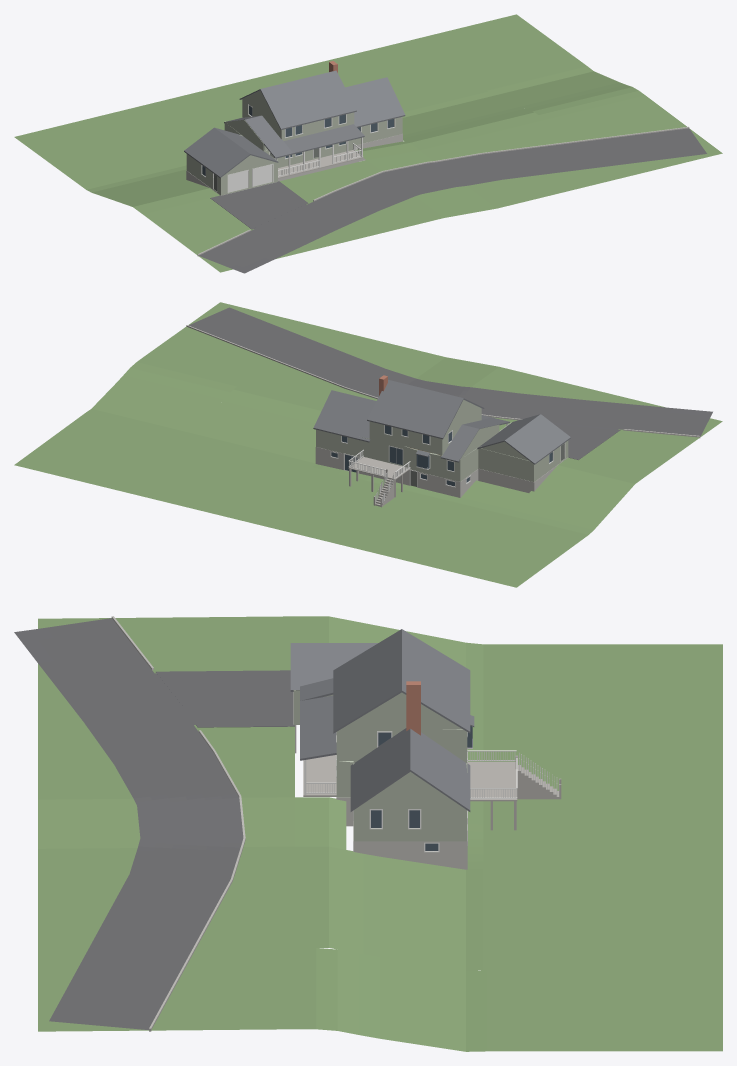
The model's file is house_prev.glb.
The picture shows the model from 3 angles, top to bottom: view 1: azimuth 30°, elevation 25°; view 2: azimuth 150°, elevation 25°; view 3: azimuth 270°, elevation 25°; orthographic projection. The views are drawn at different scales.
Visible parts, largest first — view 1: Site__Ground, Site__Asphalt, Roof__Roof, First__Siding, Roof__Siding, First__Trim, Second__Siding, Site__Foundation, First__Deck, First__GarageDoor, Basement__Foundation; view 2: Site__Ground, Site__Asphalt, Roof__Roof, First__Siding, Basement__Foundation, Second__Siding, First__Deck, Roof__Siding, First__Trim, First__Foundation, Site__Foundation, First__Glass; view 3: Site__Ground, Site__Asphalt, Roof__Roof, First__Siding, First__Deck, Roof__Siding, Basement__Foundation, Second__Siding, First__Trim, Site__Foundation, Roof__Brick.
Part boxes in pixels (left/top/right/bottom): Site__Ground: left=14, top=14, right=722, bottom=272; Site__Asphalt: left=199, top=128, right=706, bottom=273; Roof__Roof: left=184, top=70, right=405, bottom=177; First__Siding: left=186, top=117, right=402, bottom=195; Roof__Siding: left=225, top=90, right=277, bottom=173; First__Trim: left=201, top=118, right=395, bottom=192; Second__Siding: left=242, top=99, right=354, bottom=140; Site__Foundation: left=197, top=126, right=689, bottom=256; First__Deck: left=278, top=150, right=363, bottom=178; First__GarageDoor: left=228, top=164, right=272, bottom=192; Basement__Foundation: left=278, top=134, right=402, bottom=181; Site__Ground: left=14, top=302, right=722, bottom=587; Site__Asphalt: left=189, top=307, right=712, bottom=459; Roof__Roof: left=313, top=380, right=570, bottom=464; First__Siding: left=316, top=422, right=568, bottom=481; Basement__Foundation: left=315, top=447, right=478, bottom=497; Second__Siding: left=369, top=408, right=481, bottom=455; First__Deck: left=348, top=457, right=410, bottom=507; Roof__Siding: left=447, top=399, right=529, bottom=460; First__Trim: left=341, top=423, right=565, bottom=504; First__Foundation: left=478, top=457, right=568, bottom=492; Site__Foundation: left=186, top=325, right=700, bottom=438; First__Glass: left=342, top=436, right=552, bottom=471; Site__Ground: left=38, top=616, right=722, bottom=1051; Site__Asphalt: left=14, top=618, right=294, bottom=1030; Roof__Roof: left=290, top=629, right=470, bottom=811; First__Siding: left=293, top=690, right=467, bottom=841; First__Deck: left=303, top=755, right=561, bottom=830; Roof__Siding: left=342, top=692, right=462, bottom=807; Basement__Foundation: left=336, top=749, right=467, bottom=869; Second__Siding: left=336, top=728, right=467, bottom=762; First__Trim: left=304, top=739, right=559, bottom=829; Site__Foundation: left=111, top=616, right=245, bottom=1031; Roof__Brick: left=406, top=681, right=420, bottom=735.
Size of the model in its own units: 68.58 by 11.38 by 50.47.
